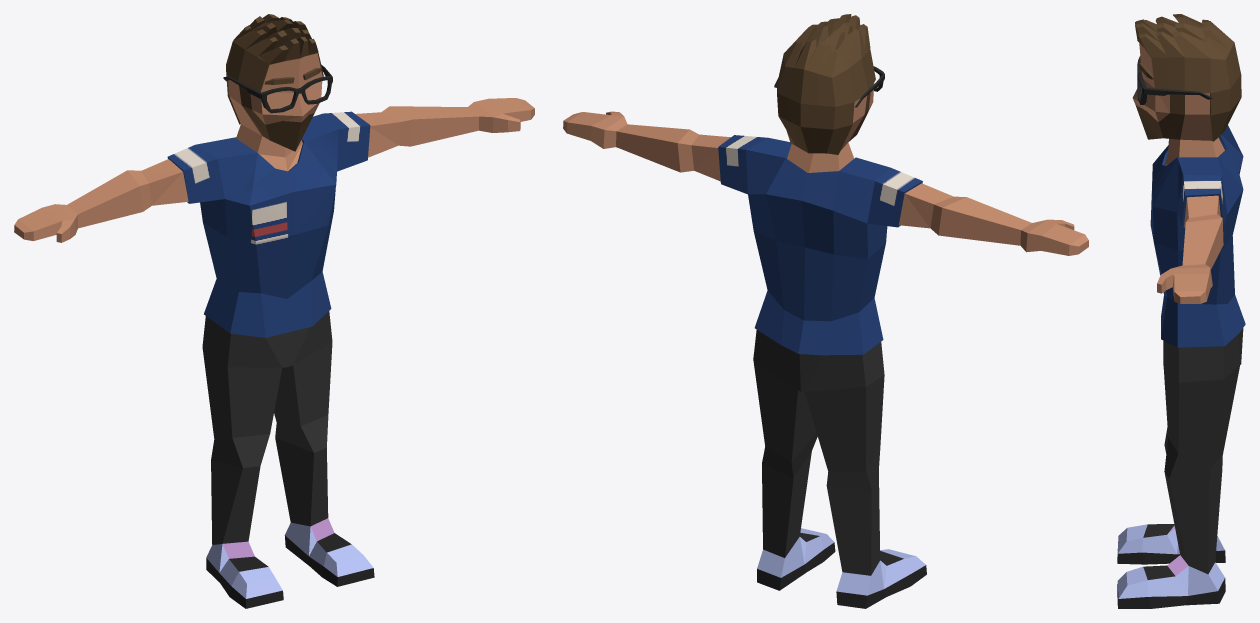
Rendered from male_caregiver.glb.
The picture shows the model from 3 angles, left to right: view 1: azimuth 30°, elevation 25°; view 2: azimuth 150°, elevation 25°; view 3: azimuth 270°, elevation 25°; orthographic projection.
Visible parts, largest first — view 1: Cube; view 2: Cube; view 3: Cube.
Part boxes in pixels (box(x1,y1,x2,y2)): Cube: box(14, 14, 534, 608); Cube: box(563, 14, 1088, 608); Cube: box(1117, 14, 1245, 608).
Size of the model in its own units: 39.52 by 40.54 by 8.49.
Materials: 1 (1 with a texture image).
